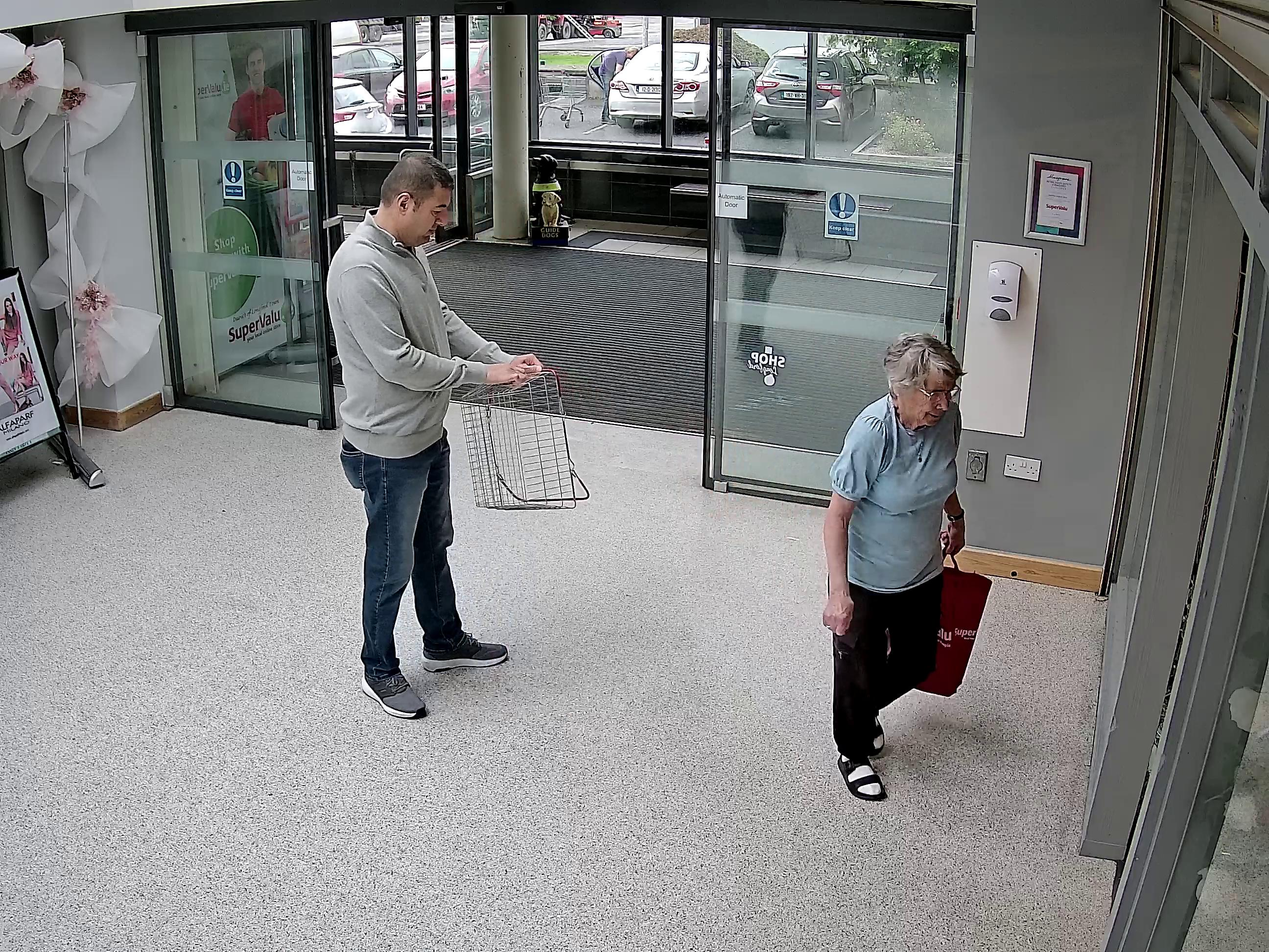empty-basket: (460, 363, 591, 513)
filled-shopping-bags: (914, 555, 993, 696)
person: (326, 153, 541, 719), (822, 335, 968, 801)
person-with-empty-basket-trolly: (325, 154, 590, 720)
person-with-filled-shopping-bag-s-: (821, 335, 993, 805)
